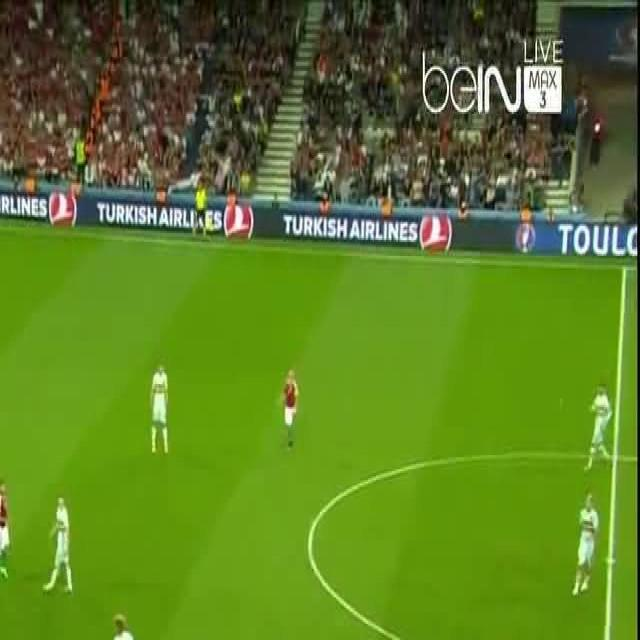player-white: (42, 497, 73, 594), (572, 493, 598, 598), (583, 382, 611, 472), (148, 361, 170, 455), (280, 368, 300, 448), (111, 609, 156, 640), (0, 476, 9, 580), (193, 178, 207, 240)
